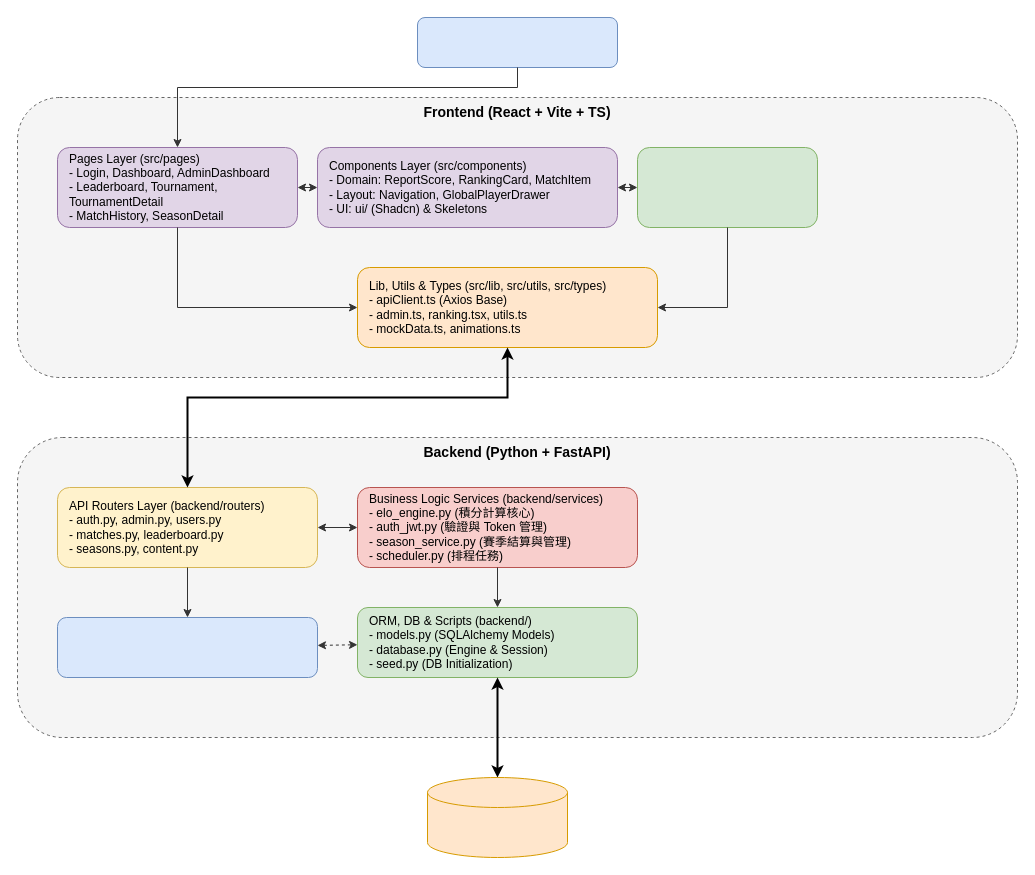
The diagram is 1035 pixels wide and 875 high, and some of its shapes have lost their labels. The shapes that lost their labels are listed below. From the top down, each one's centre as x and y in pixels, then its label:
pixel 517 42: Web Browser / User Client
pixel 727 187: State Management (src/store) - authStore.ts (Zustand) - Local UI State / Hooks
pixel 187 647: Data Transfer Objects - schemas.py (Pydantic Validation)
pixel 497 817: SQLite Database (arena.db)
